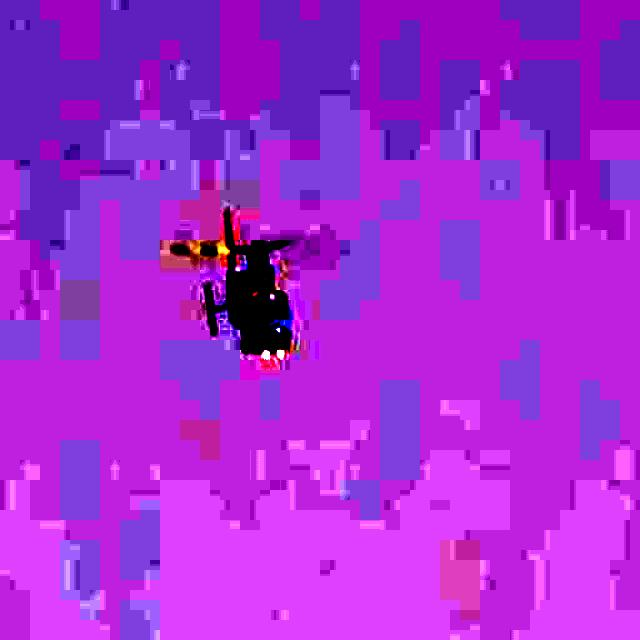drone: (112, 128, 372, 421)
